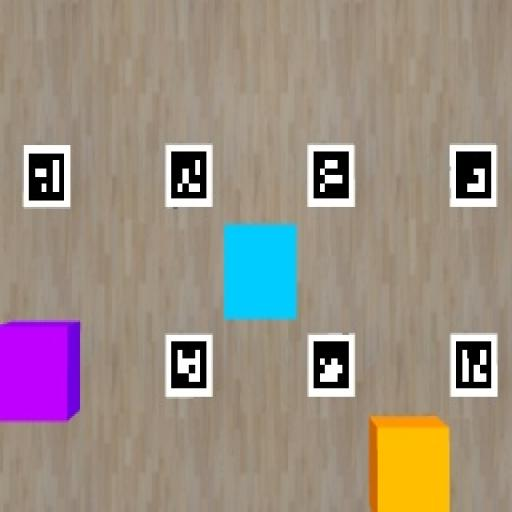car: (0, 320, 81, 422), (224, 224, 297, 319)
fire: (368, 416, 451, 511)
